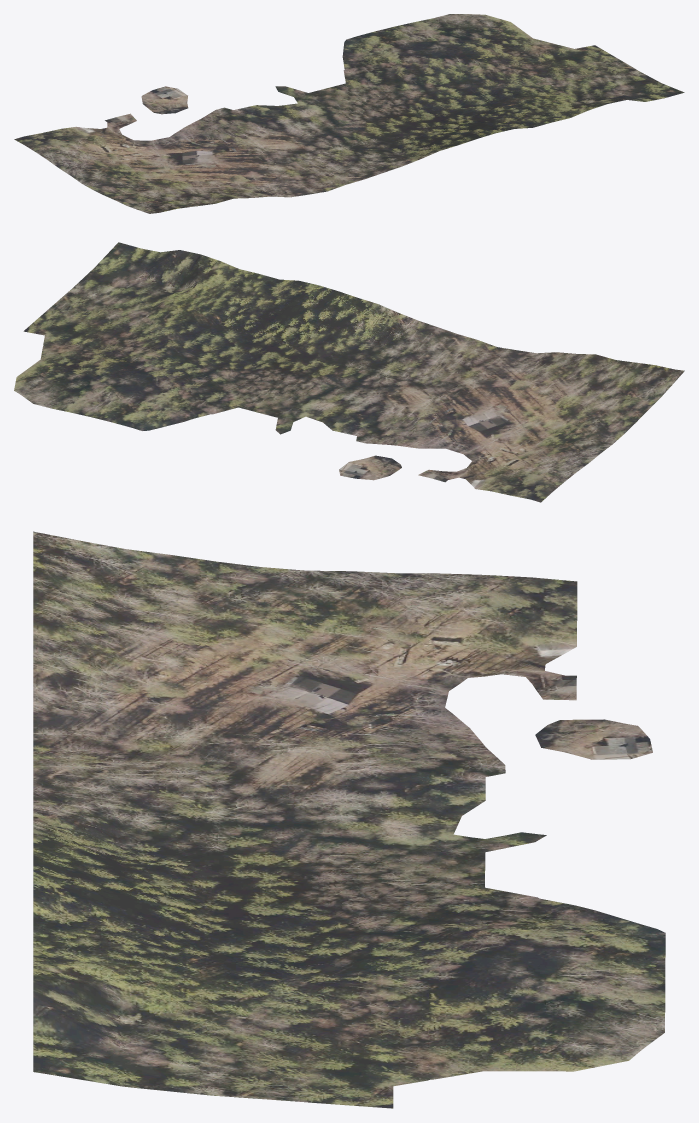
The model's file is CM_Terrain_24490663_6823070.fbx.
3 renders of one model, top to bottom at view 1: azimuth 30°, elevation 25°; view 2: azimuth 150°, elevation 25°; view 3: azimuth 270°, elevation 25°, orthographic. The views are drawn at different scales.
Visible parts, largest first — view 1: CM_Terrain_24490663_6823070_LOD0; view 2: CM_Terrain_24490663_6823070_LOD0; view 3: CM_Terrain_24490663_6823070_LOD0.
Boxes of the visible parts, x1,y1,x2,y2 form: CM_Terrain_24490663_6823070_LOD0: (14,14,684,213); CM_Terrain_24490663_6823070_LOD0: (14,242,684,502); CM_Terrain_24490663_6823070_LOD0: (33,531,665,1108).
Size of what is drawn, in the model's own units: 205 by 10.45 by 105.
